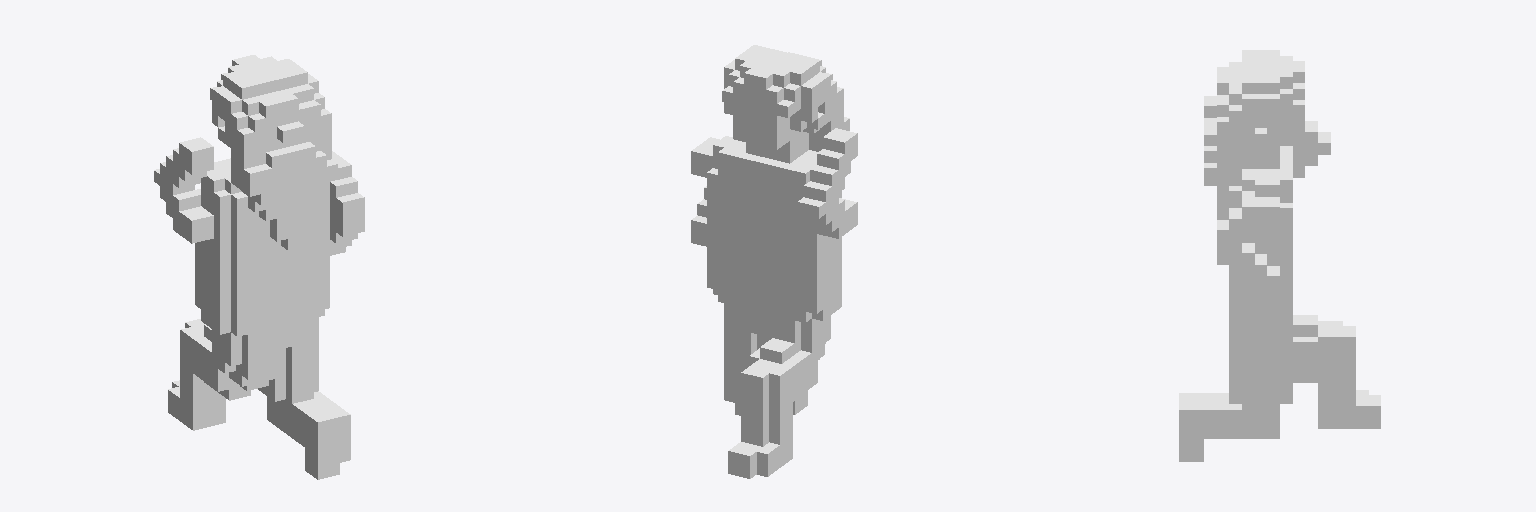
Rendered from jacky_spring.obj.
3 views of the same model, side by side, from view 1: azimuth 30°, elevation 25°; view 2: azimuth 150°, elevation 25°; view 3: azimuth 270°, elevation 25° (orthographic).
Parts seen in each view (by area): view 1: object 1; view 2: object 1; view 3: object 1.
Part boxes in pixels (left/top/right/bottom): object 1: left=154, top=55, right=364, bottom=479; object 1: left=691, top=45, right=857, bottom=478; object 1: left=1179, top=50, right=1380, bottom=461.
Size of the model in its own units: 1.4 by 3.3 by 1.6.